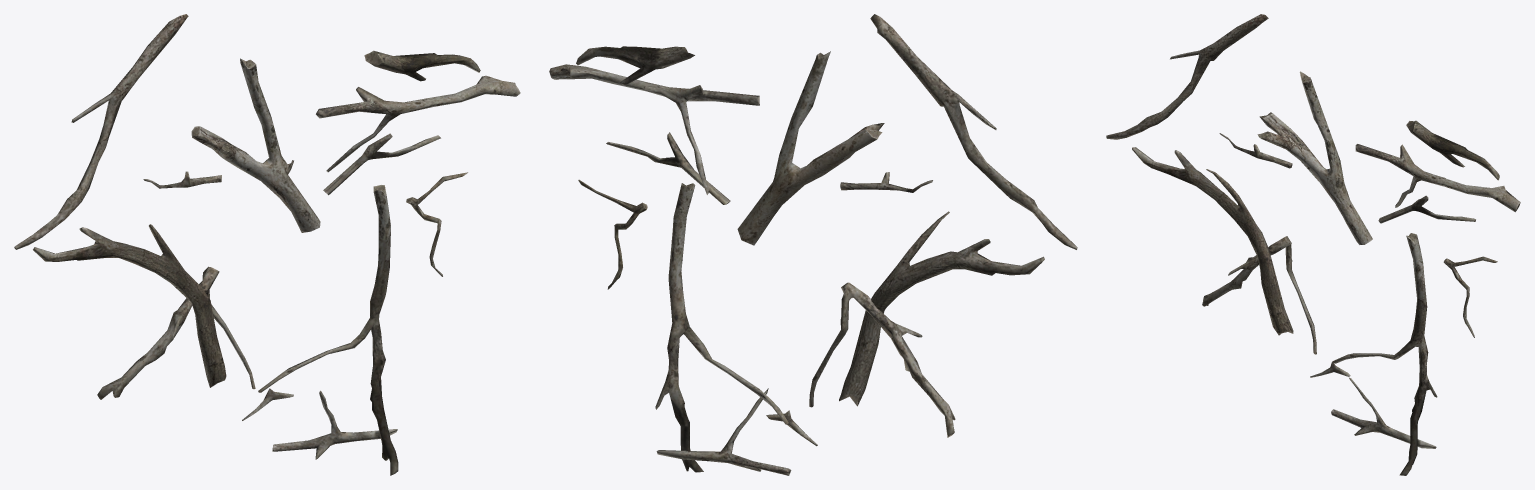
Rendered from hd_env_UNI_073_BurntTreeBrunch_01.fbx.
3 views of the same model, side by side, from view 1: azimuth 30°, elevation 25°; view 2: azimuth 150°, elevation 25°; view 3: azimuth 330°, elevation 25° (orthographic). The views are drawn at different scales.
Parts seen in each view (by area): view 1: set_0_group_0; view 2: set_0_group_0; view 3: set_0_group_0.
Boxes of the visible parts, left/top/right/bottom form: set_0_group_0: left=14, top=14, right=520, bottom=475; set_0_group_0: left=549, top=14, right=1077, bottom=475; set_0_group_0: left=1106, top=14, right=1520, bottom=475.
Size of the model in its own units: 537 by 505 by 62.39.
